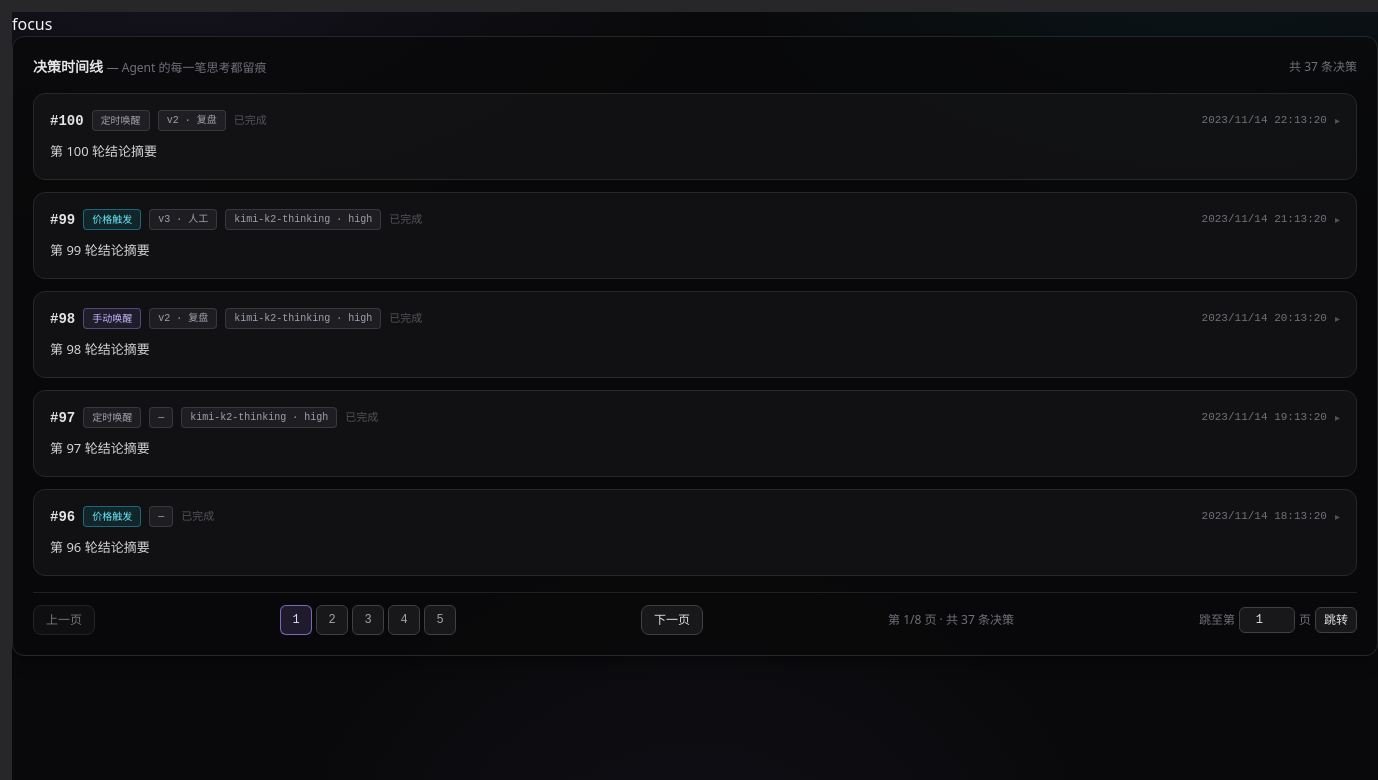
Test: RoundTimeline(决策时间线) › 笔记引文随当前页下发：第 6 页老轮次的笔记照常显示（不受最新 20 条窗口限制）
This screenshot has width=1378, height=780.
Expected: the text "第 100 轮结论摘要" is shown, [50,142,157,160]
Replace the text in the number field named "跳转到第几页决策" with "6" at (1267, 620), box [1239,607,1295,633]
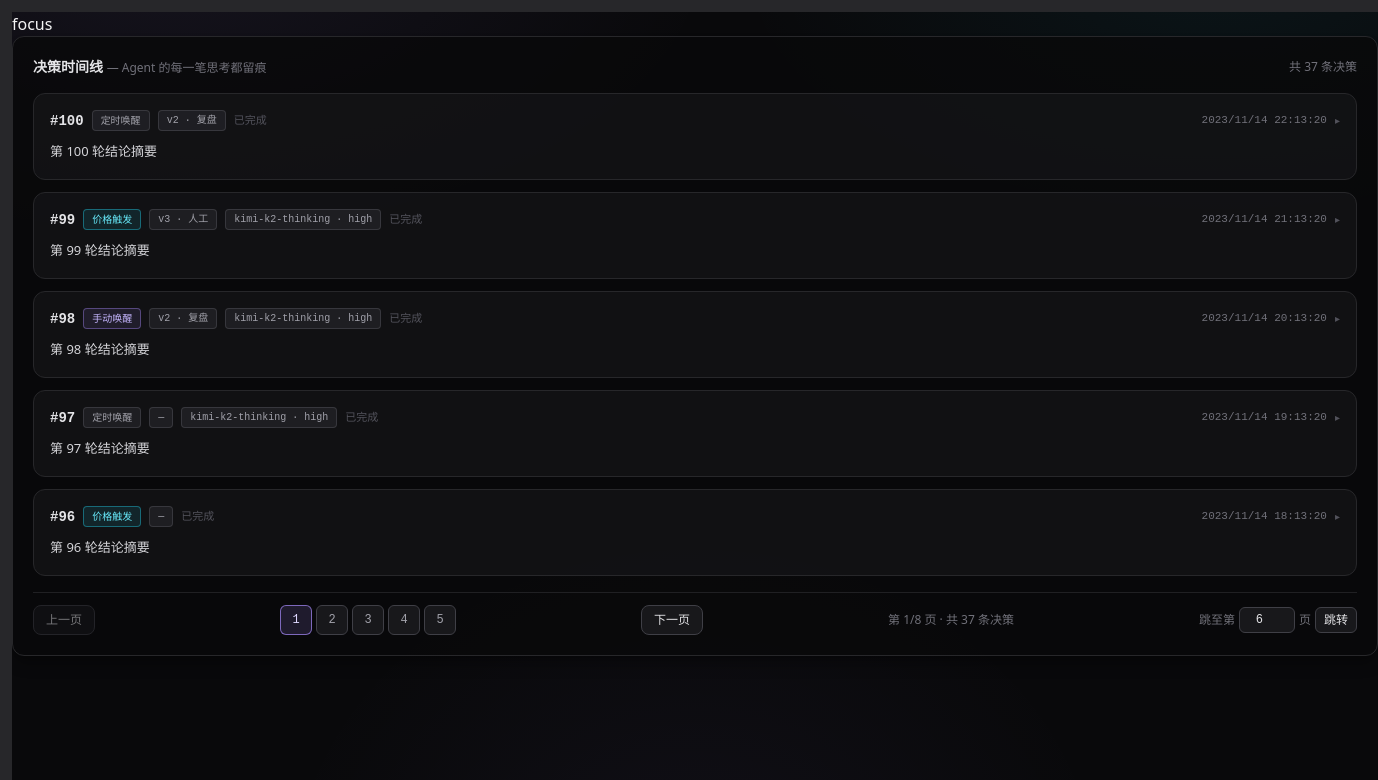
Click the button "跳转" at (1336, 620), box [1315,607,1357,633]
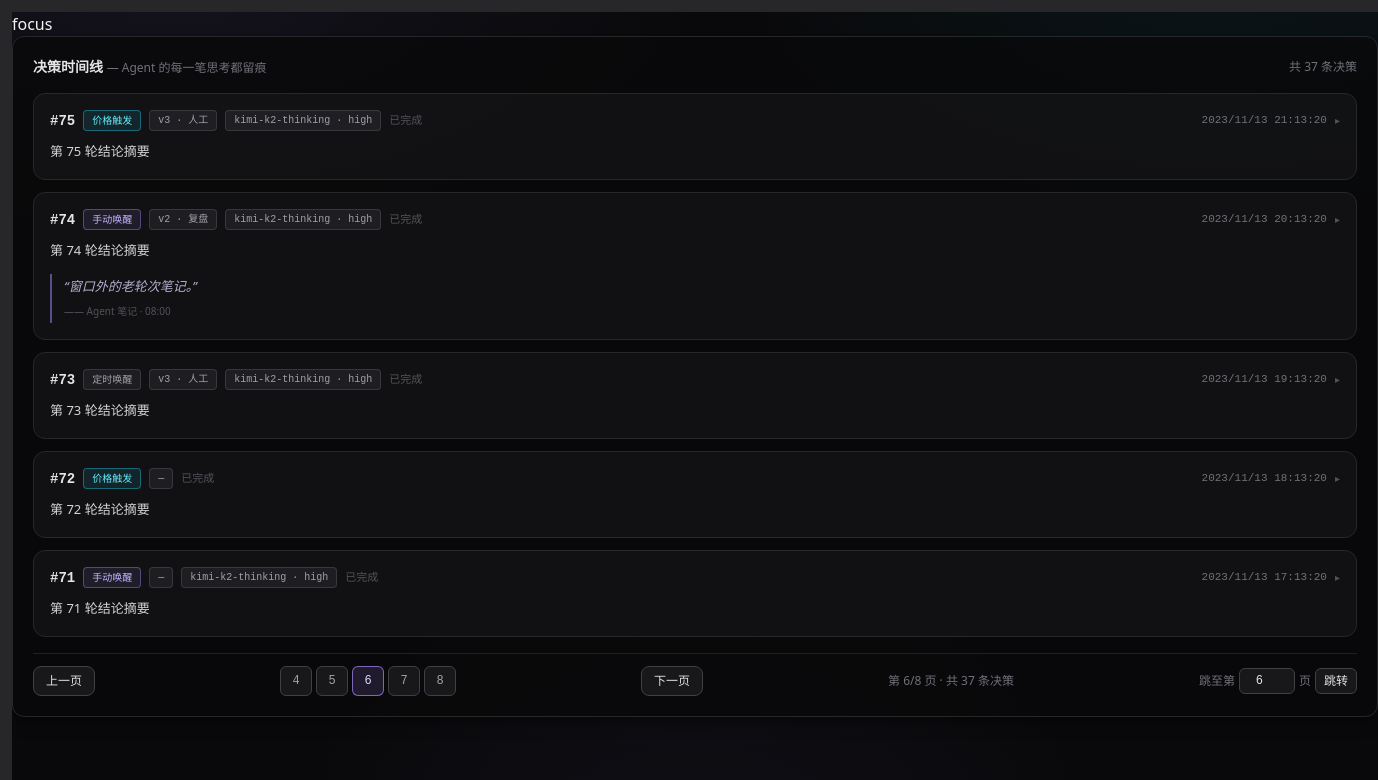
Now the text "“窗口外的老轮次笔记。”" is shown, box [64,277,197,295]
